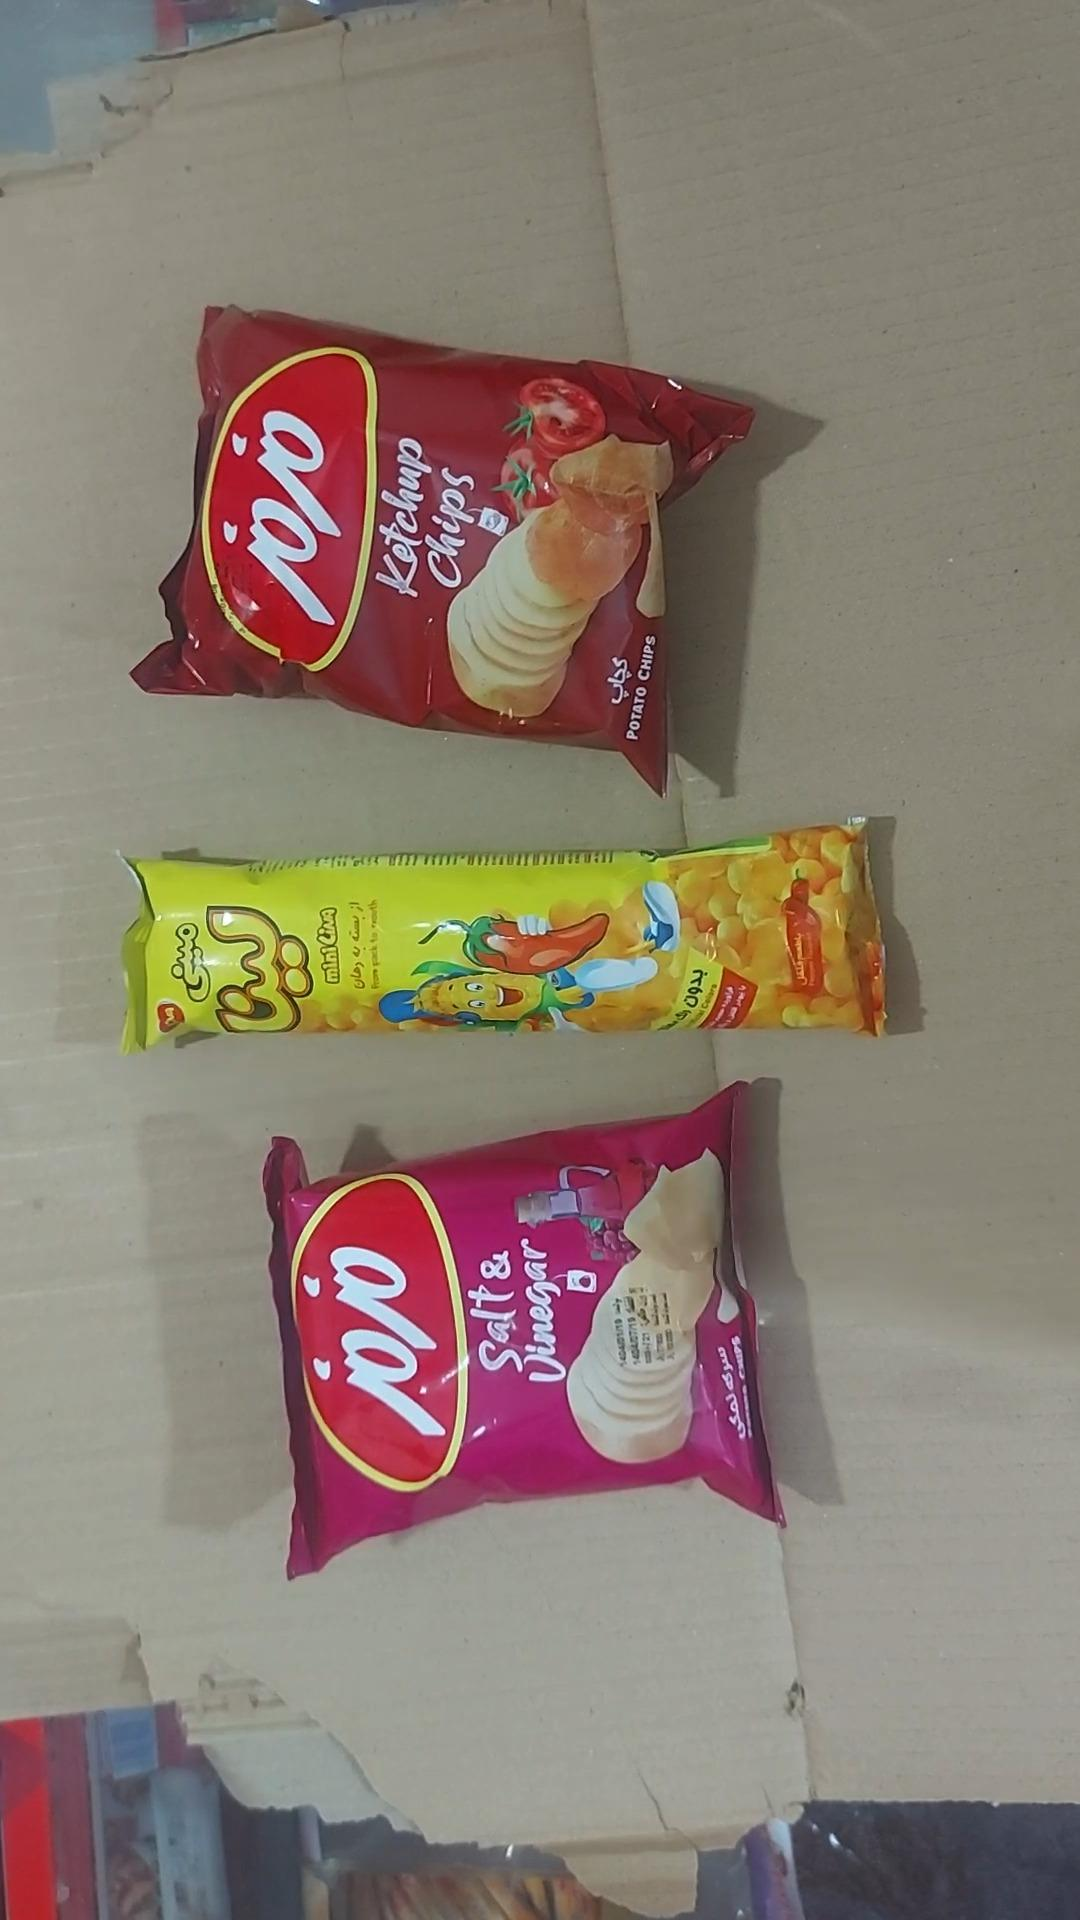Maz Maz ketchup chips: (133, 307, 752, 790)
Maz Maz vinegar chips: (262, 1087, 781, 1578)
Mini Lina: (123, 822, 884, 1052)
